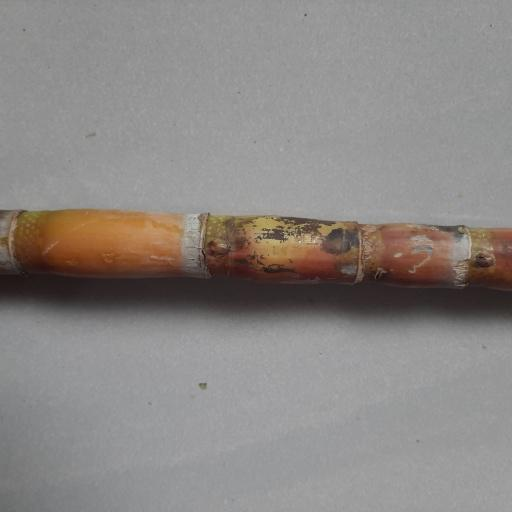Bud: (202, 236, 231, 258)
